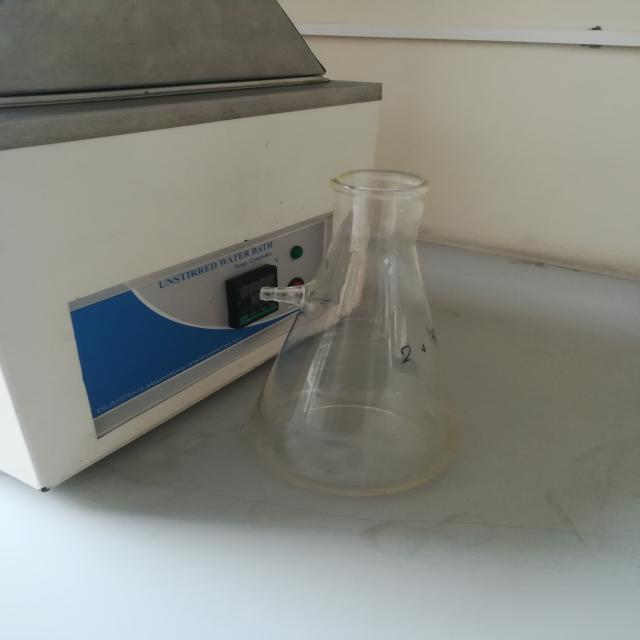Conical_Flask: (190, 121, 514, 524)
